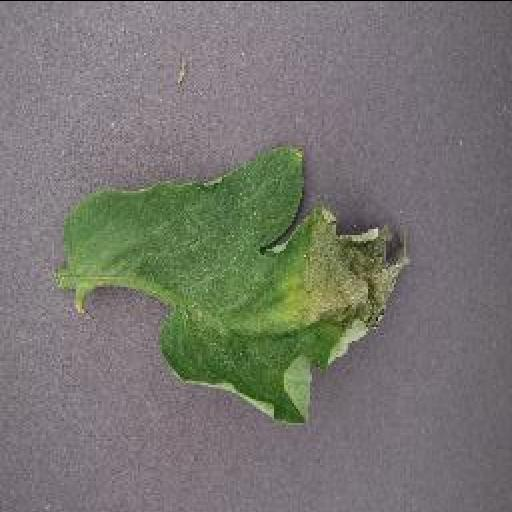disease_tomato: (60, 141, 406, 423)
